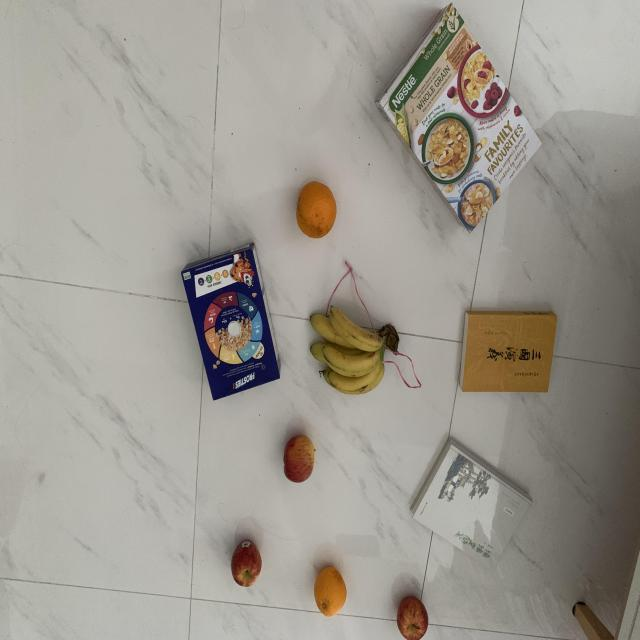Apple: (281, 432, 321, 486), (394, 590, 434, 638), (230, 537, 266, 588)
Banana: (307, 304, 402, 398)
Book: (408, 435, 534, 572), (455, 306, 560, 398)
Cerealbox: (373, 0, 545, 233), (180, 238, 284, 406)
Orange: (294, 178, 338, 239), (309, 564, 352, 618)
